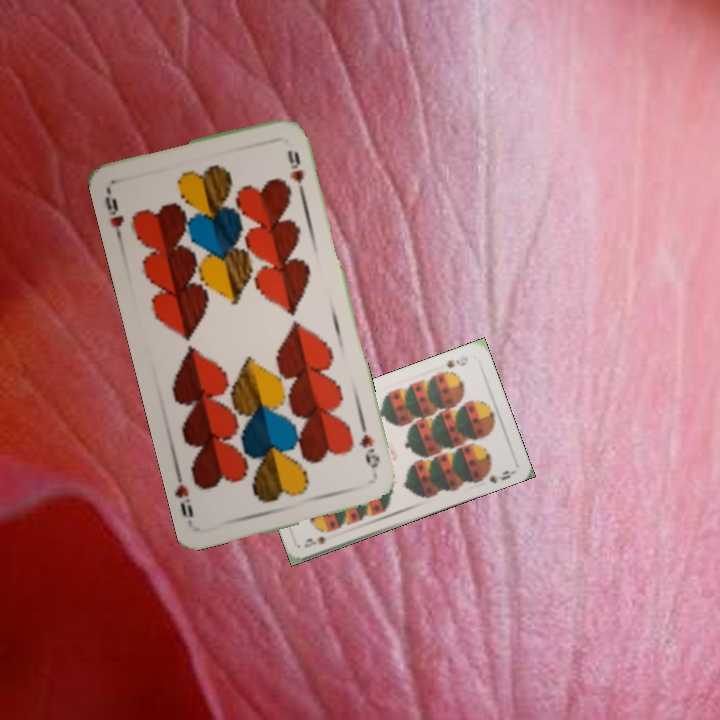H9: (100, 185, 127, 244), (354, 430, 383, 471)
S9: (442, 351, 471, 370), (300, 532, 330, 550)
